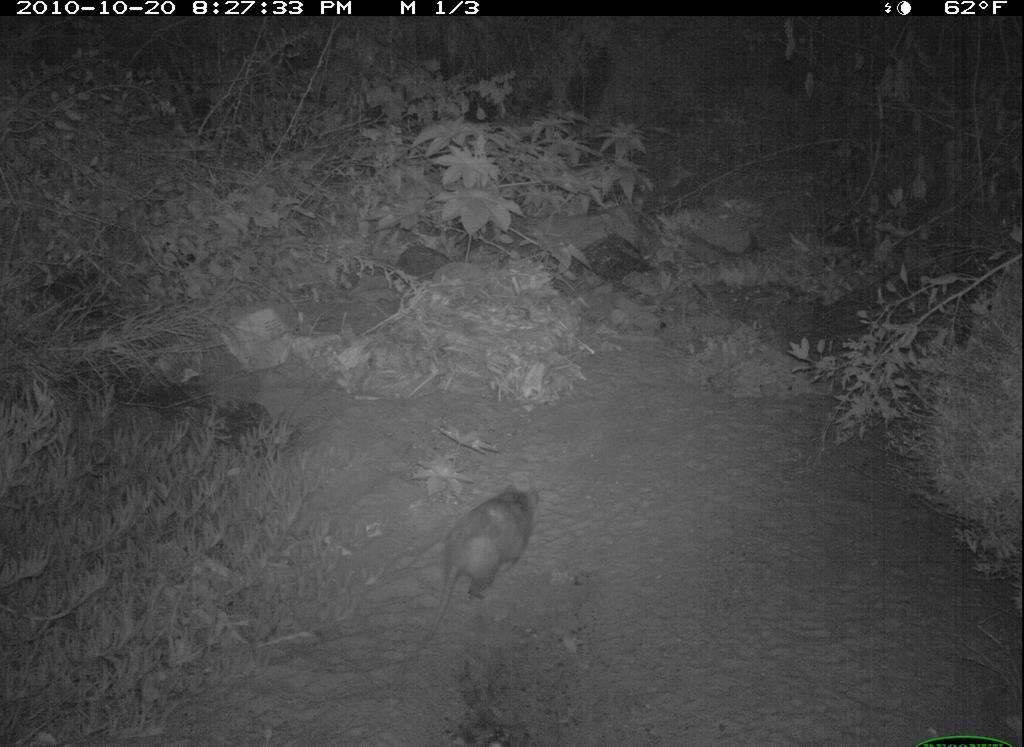opossum: (416, 486, 545, 651)
